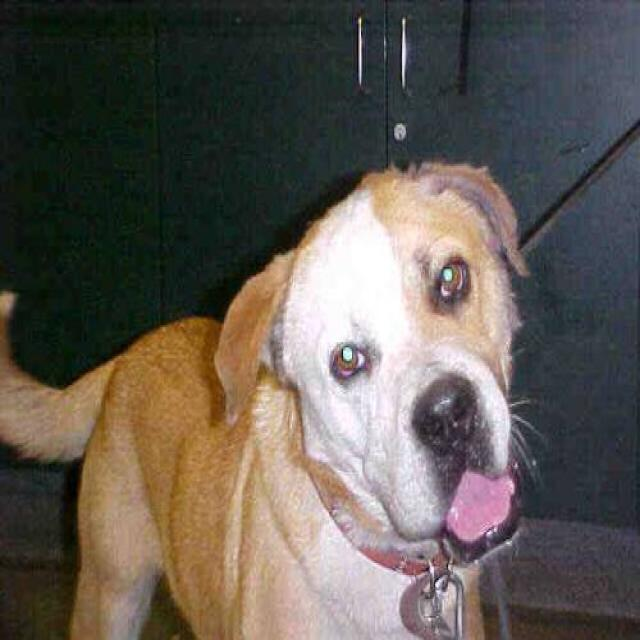dog: (0, 157, 543, 638)
